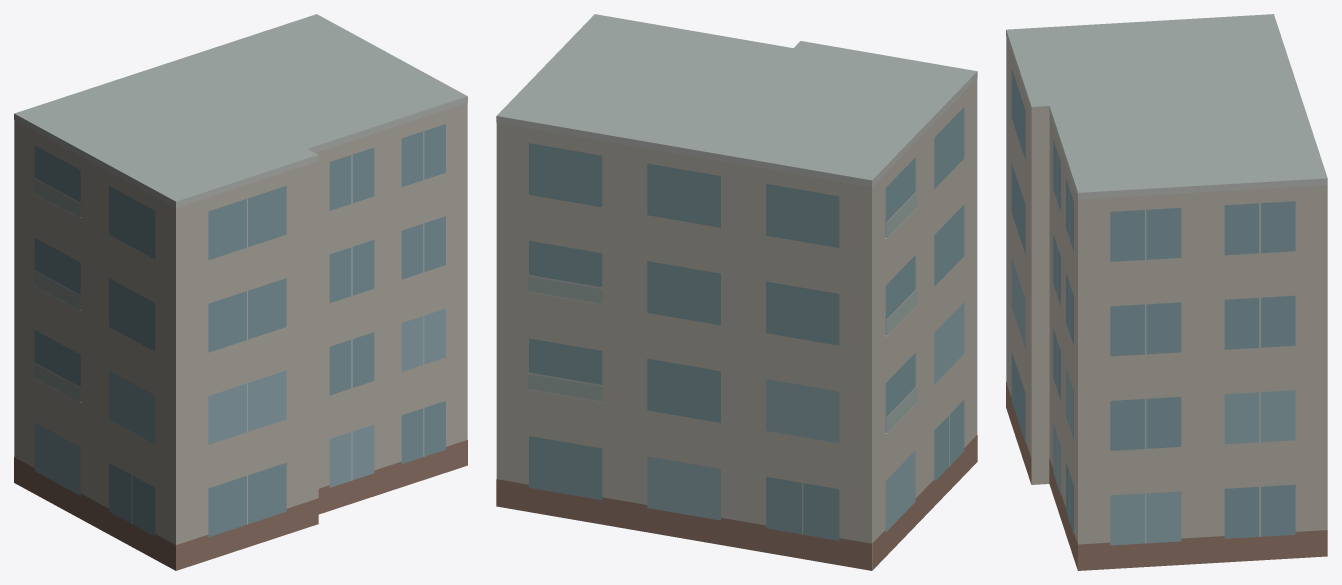
Rendered from survey-upis-32609902.glb.
3 views of the same model, side by side, from view 1: azimuth 30°, elevation 25°; view 2: azimuth 150°, elevation 25°; view 3: azimuth 270°, elevation 25° (orthographic). The views are drawn at different scales.
Parts seen in each view (by area): view 1: survey-upis-32609902.tmp; view 2: survey-upis-32609902.tmp; view 3: survey-upis-32609902.tmp.
Boxes of the visible parts, <box> form: survey-upis-32609902.tmp: <box>14,14,467,570</box>; survey-upis-32609902.tmp: <box>496,14,977,570</box>; survey-upis-32609902.tmp: <box>1006,14,1327,570</box>.
Size of the model in its own units: 14.05 by 13.84 by 10.68.
